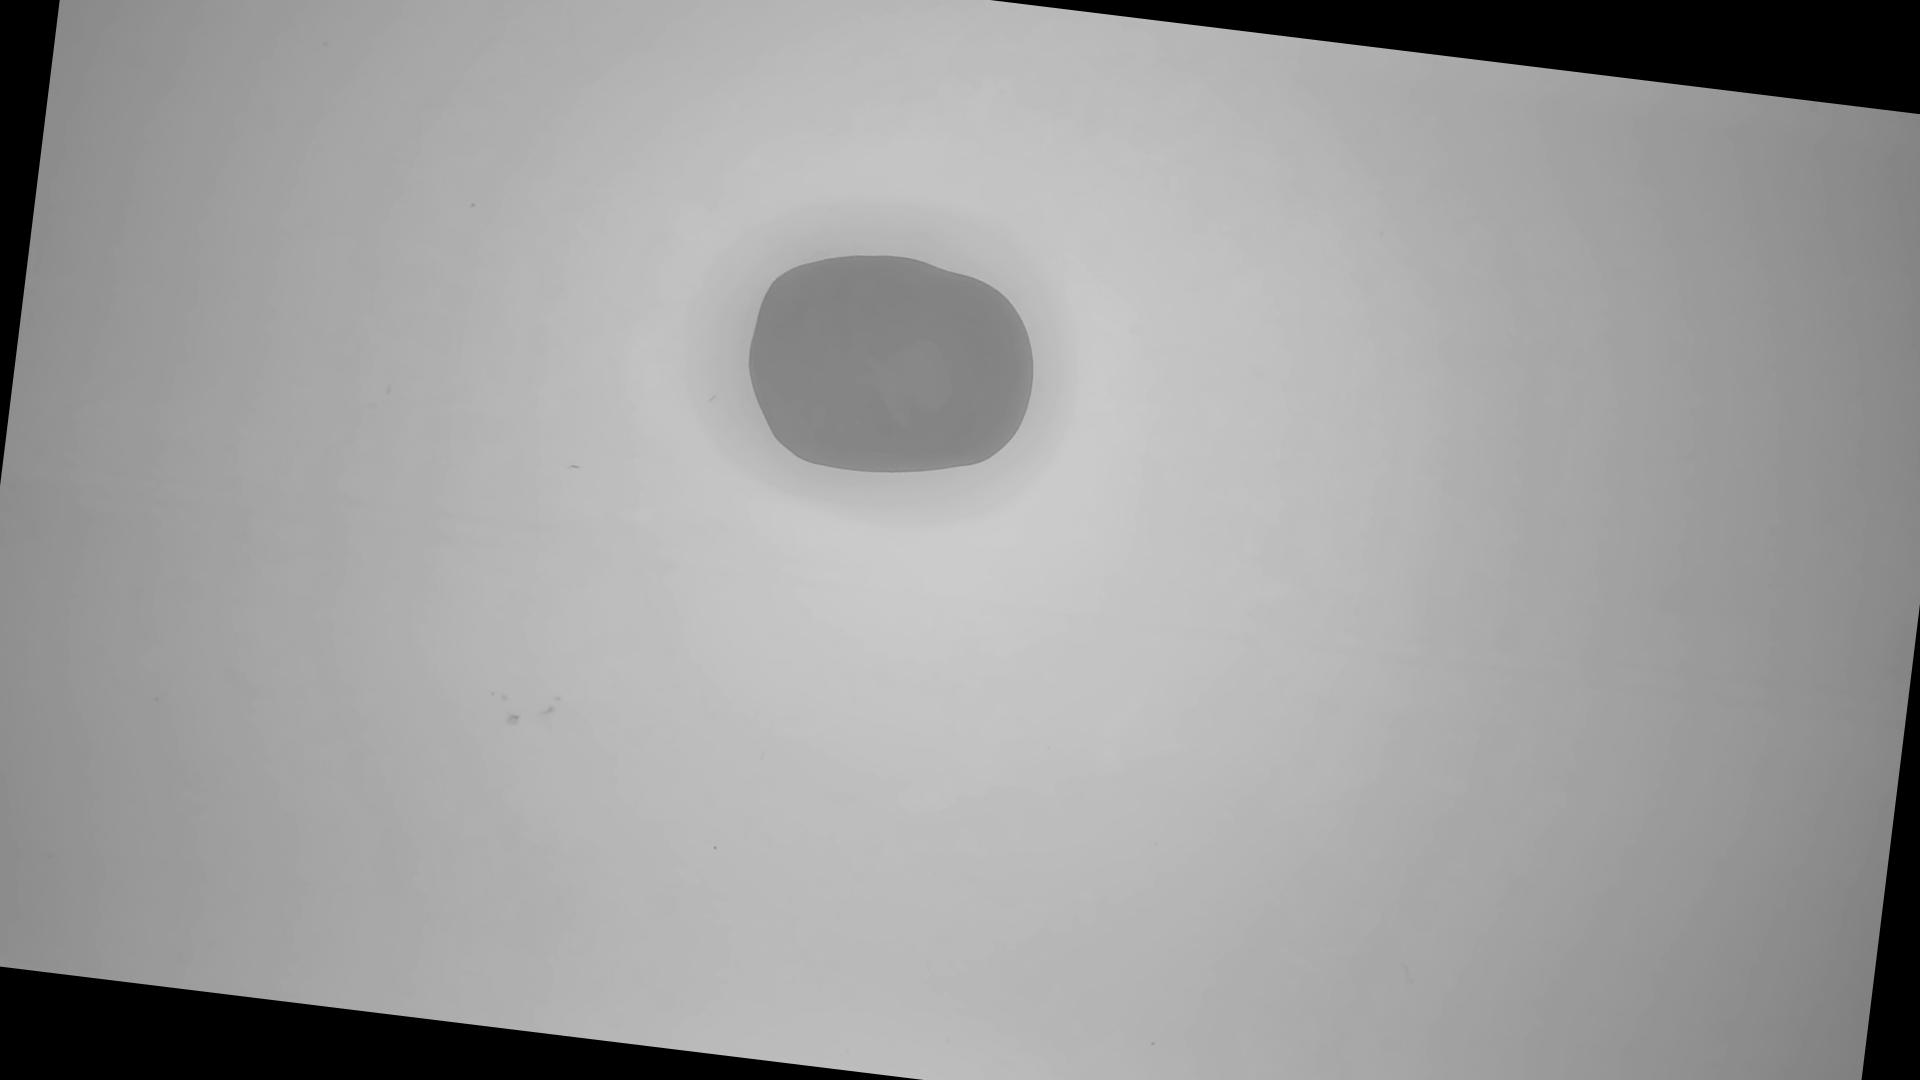abnormal: (735, 236, 1051, 495)
